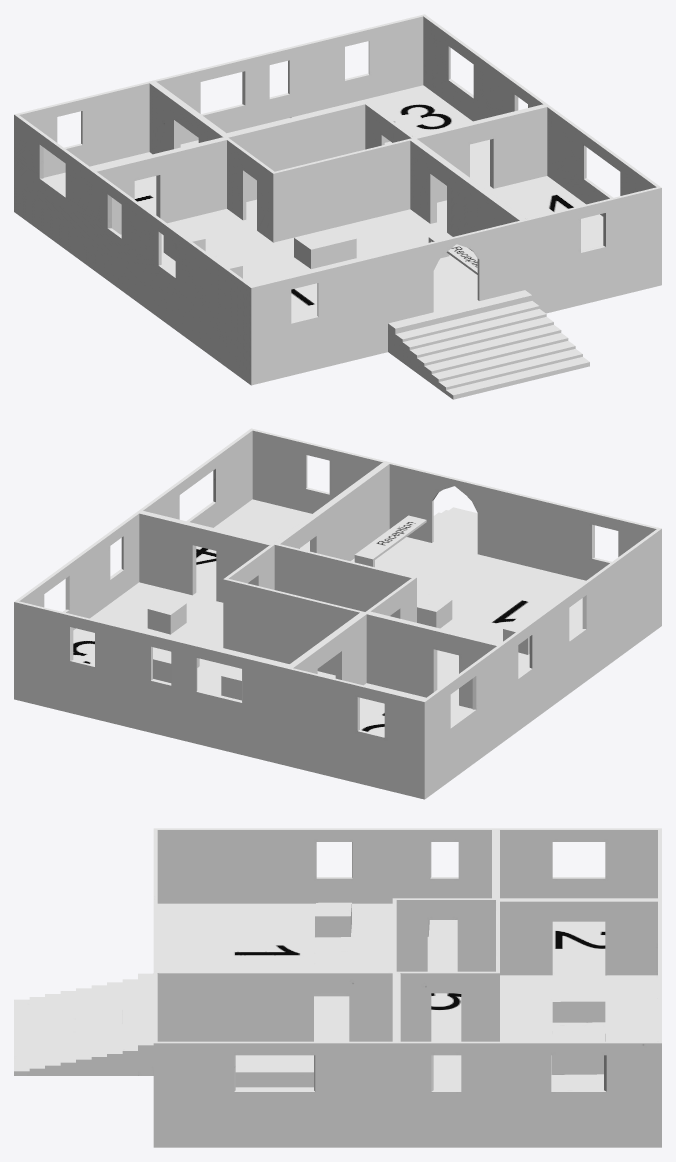
File: museum_space_template.glb
3 views of the same model, one above another, from view 1: azimuth 30°, elevation 25°; view 2: azimuth 150°, elevation 25°; view 3: azimuth 270°, elevation 25° (orthographic). The views are drawn at different scales.
Parts seen in each view (by area): view 1: Cube.001; view 2: Cube.001; view 3: Cube.001.
Part boxes in pixels (x1,y1,x2,y2): Cube.001: [14, 14, 661, 399]; Cube.001: [14, 428, 661, 799]; Cube.001: [14, 828, 661, 1147].
Bounding box in the file's own units: 25 × 5.67 × 31.86.
Materials: 1 (1 with a texture image).
